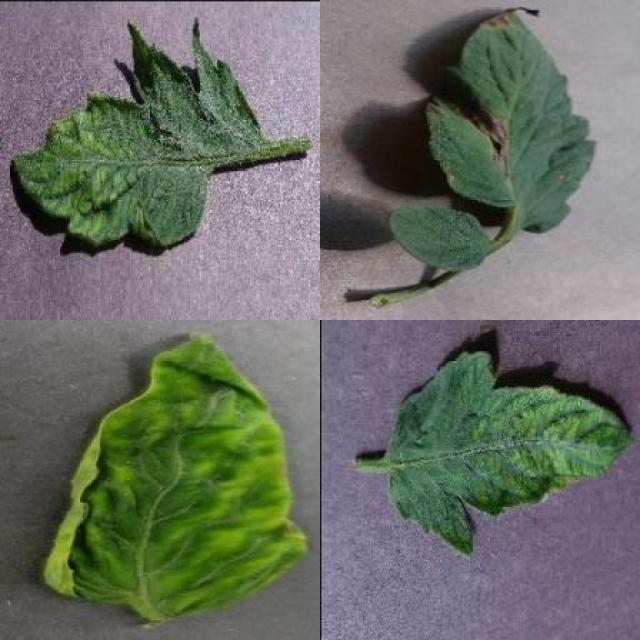Early Blight: (424, 8, 599, 232)
Healthy: (389, 204, 490, 274)
Mosaic Virus: (8, 14, 266, 249), (384, 352, 634, 558)
Yellow Leaf Curl Virus: (45, 332, 308, 615)
